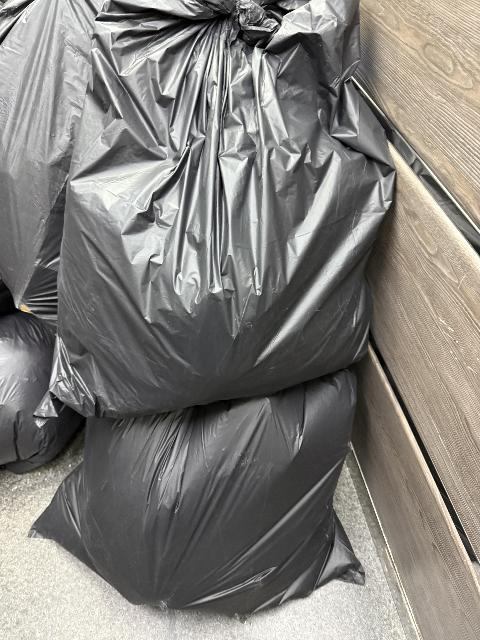Plastik: (61, 8, 371, 391), (81, 413, 334, 589), (0, 2, 103, 313), (0, 323, 72, 472)
